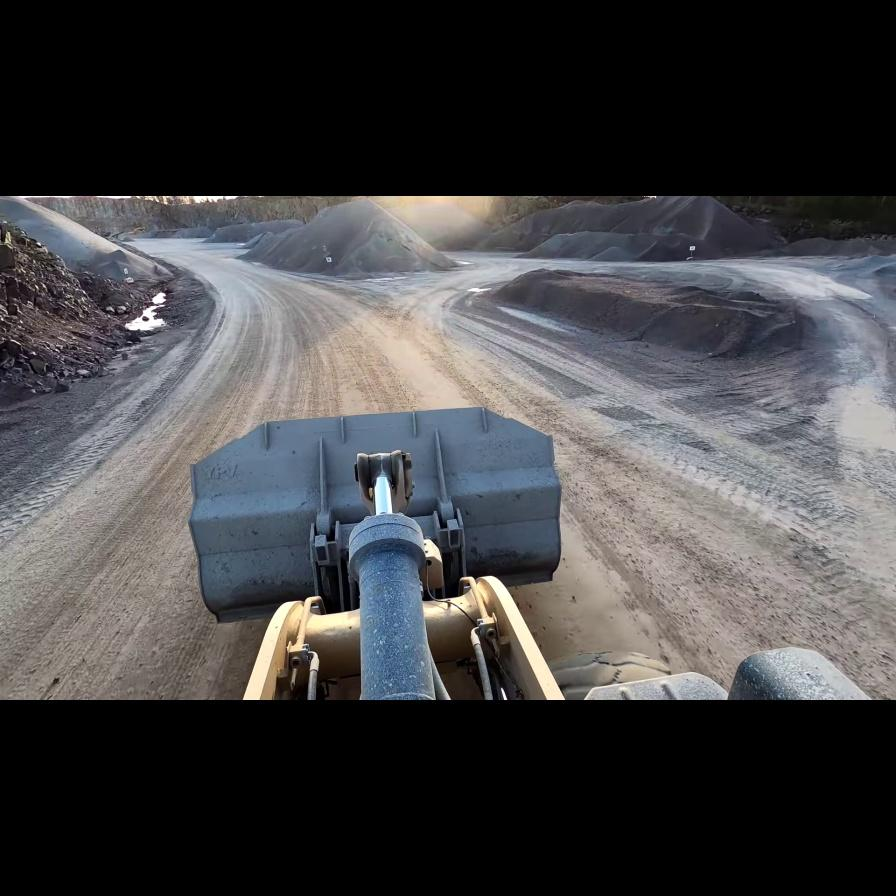anchor: (354, 450, 412, 514)
pile of gravel: (485, 261, 820, 361), (480, 196, 777, 260), (236, 200, 463, 277), (2, 199, 173, 285), (207, 219, 301, 244), (132, 227, 214, 240)
